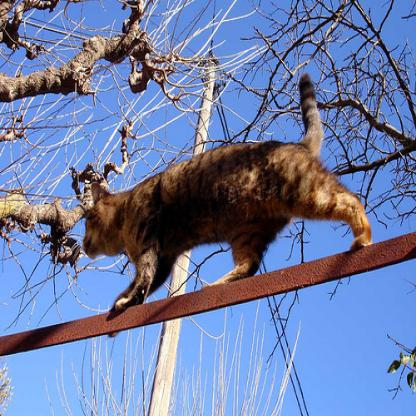cat: (81, 71, 372, 339)
